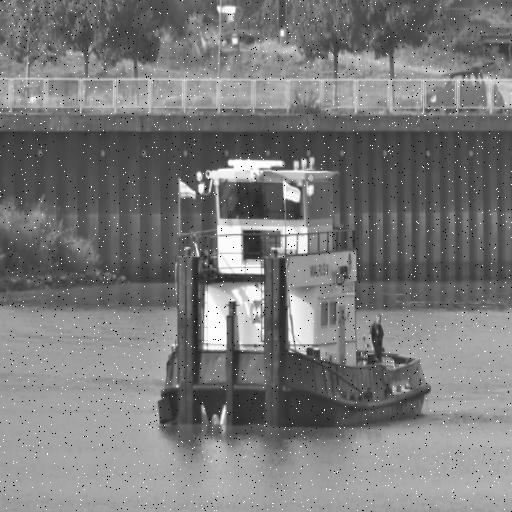tugboat: (155, 154, 435, 441)
